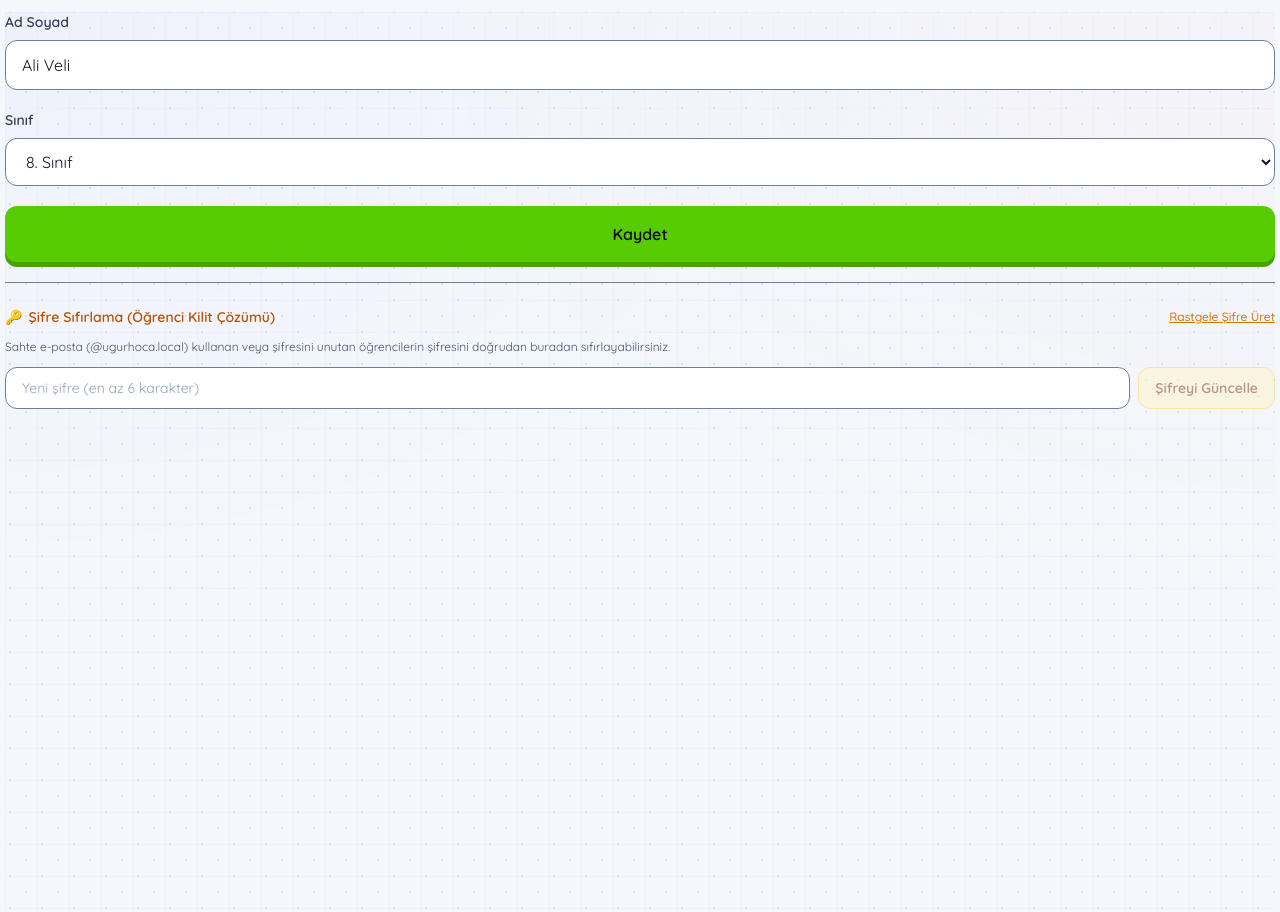
Test: AdminEditUserForm › şifre sıfırlama isteğini başarıyla gönderir ve sonucu gösterir
This screenshot has width=1280, height=912.
Type "yeniSifre123" into the field with placeholder "Yeni şifre (en az 6 karakter)".
click(568, 388); type("yeniSifre123")  # box [5,367,1130,409]
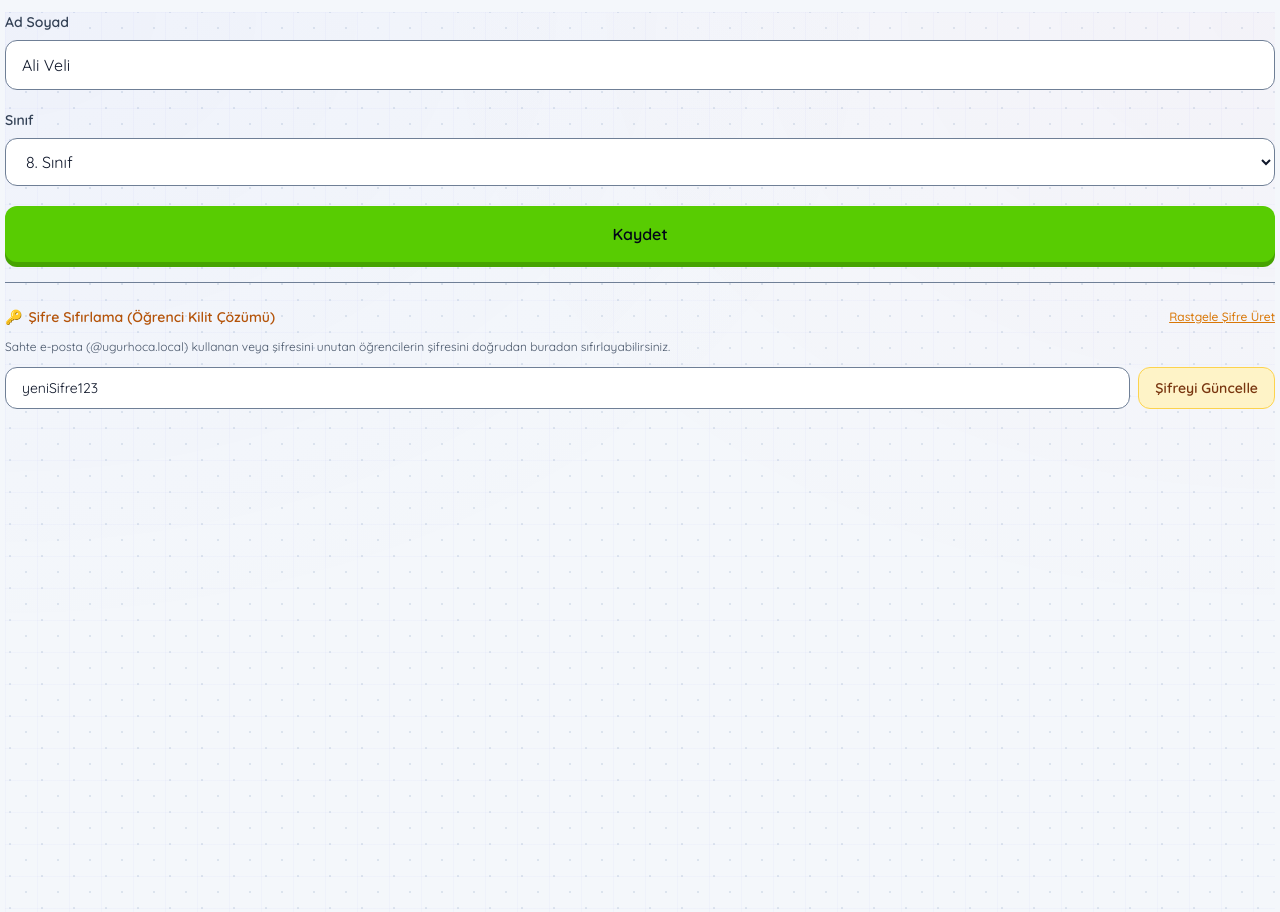
Now the button "Şifreyi Güncelle" is enabled
Click the button "Şifreyi Güncelle".
click(1207, 388)  # box [1138,367,1275,409]
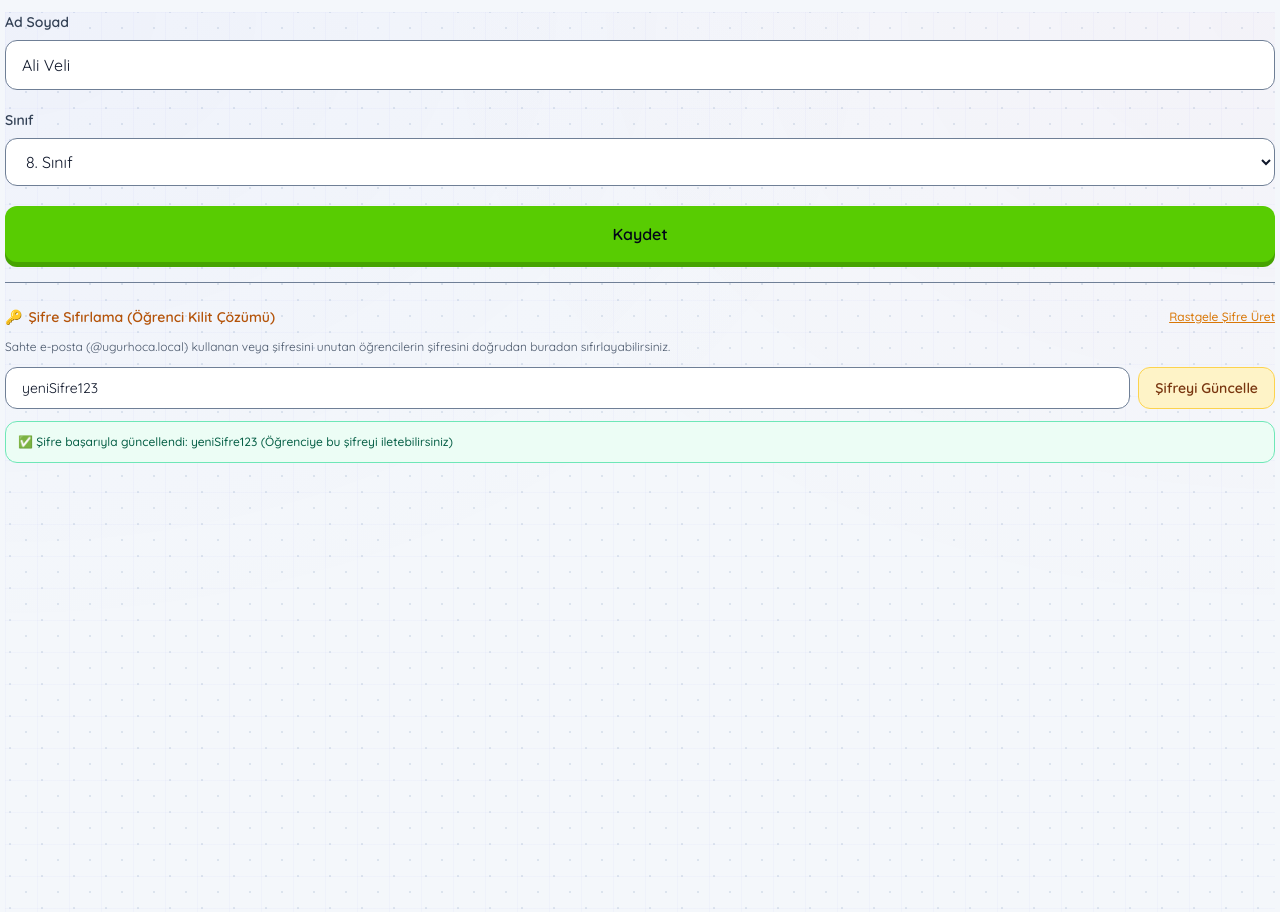
Now the text "Şifre başarıyla güncellendi" is shown, box [18,434,453,449]
